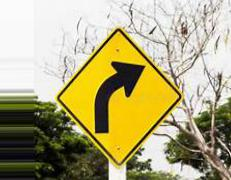right: (55, 27, 180, 169)
